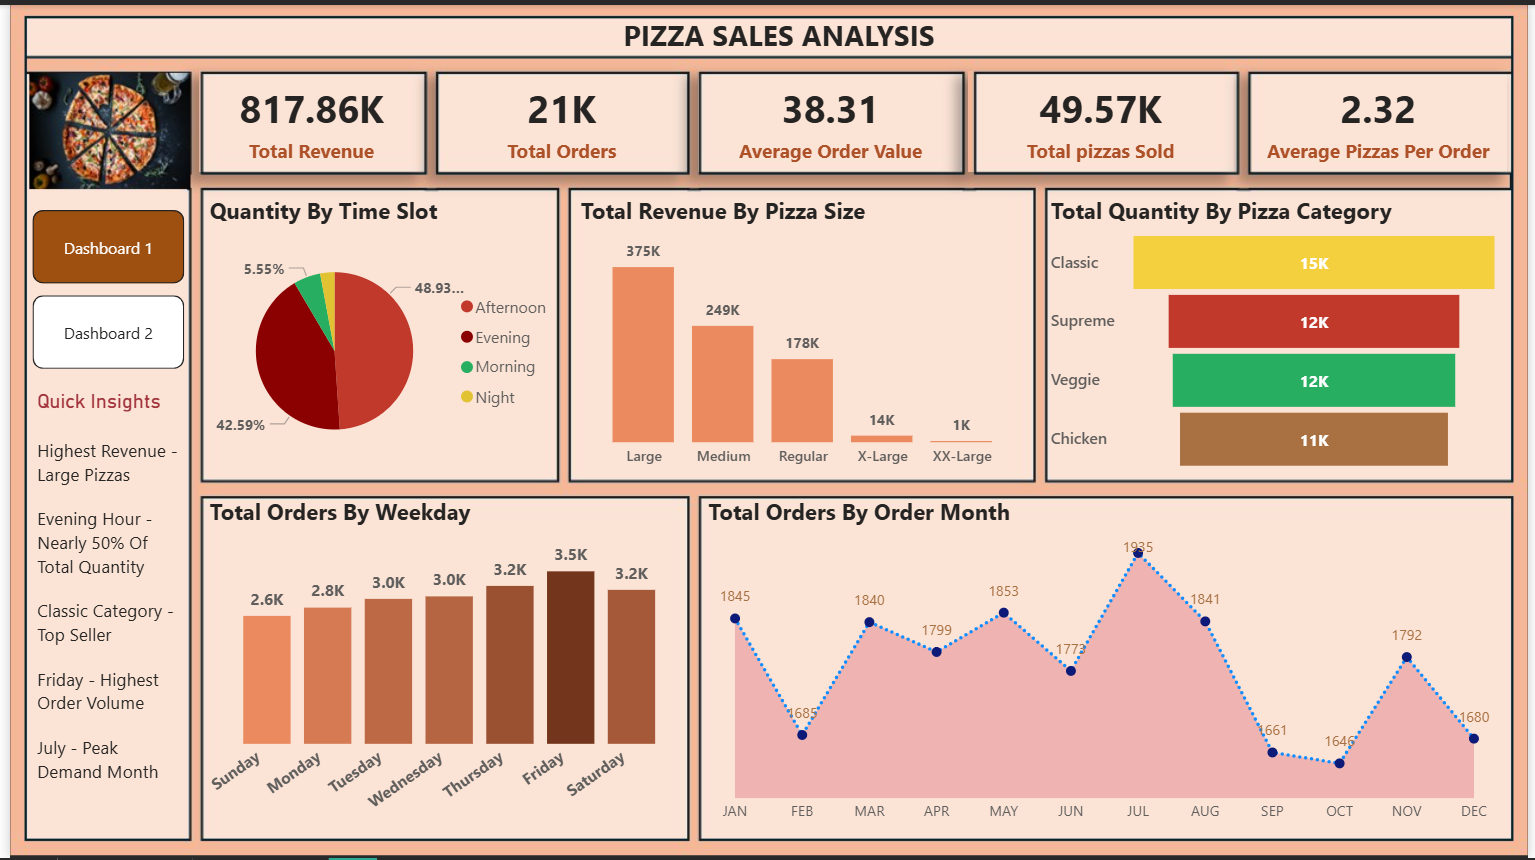

The page's visual inventory and layout, read from the dashboard file:
{"tool":"powerbi","page":{"name":"Dashboard 1","canvas":[1280,720],"ordinal":0},"visuals":[{"type":"card","fields":{"Values":["public fact_sales.Total Revenue"]},"box":[159.2,56.3,190.7,85.1],"z":0},{"type":"columnChart","title":"Total Orders By Weekday","fields":{"Y":["public fact_sales.Total Orders"],"Category":["public dim_date.weekday"]},"box":[163.3,414.4,407.5,284],"z":1000},{"type":"pieChart","title":" Quantity By Time Slot","fields":{"Category":["public dim_time.time_slot"],"Y":["Sum(public fact_sales.quantity)"]},"box":[163.2,160.4,303,238.6],"z":2000},{"type":"areaChart","title":"Total Orders By Order Month","fields":{"Y":["public fact_sales.Total Orders"],"Category":["public dim_date.Order Month"]},"box":[584.1,414.1,678.7,283.8],"z":3000},{"type":"columnChart","title":"Total Revenue By Pizza Size","fields":{"Category":["public dim_pizza.pizza_size"],"Y":["public fact_sales.Total Revenue"]},"box":[476.2,160.5,385.6,238.8],"z":4000},{"type":"funnel","title":"Total Quantity By Pizza Category","fields":{"Category":["public dim_pizza.pizza_category"],"Y":["Sum(public fact_sales.quantity)"]},"box":[873.4,160.4,389.4,238.6],"z":5000},{"type":"card","fields":{"Values":["public fact_sales.Total Orders"]},"box":[360.9,56.3,209.9,85.1],"z":6000},{"type":"card","fields":{"Values":["public fact_sales.Average Order Value"]},"box":[580.4,56.3,225,85.1],"z":7000},{"type":"card","fields":{"Values":["public fact_sales.Average Pizzas Per Order"]},"box":[1045.6,56.3,216.8,85.1],"z":8000},{"type":"card","fields":{"Values":["public fact_sales.Total pizzas Sold"]},"box":[808.2,56.3,225,85.1],"z":9000},{"type":"textbox","box":[512.5,4.2,383.8,42.2],"z":10000},{"type":"pageNavigator","box":[19.2,172.8,128.9,135.7],"z":11000},{"type":"textbox","title":"Quick Insights","box":[17.8,323.6,130.2,374.3],"z":12000}]}

Visuals, with their boxes in screenshot pixels (x1, y1, x2, y2), scaled from the page's 1280x720 canvas onto the 1535x860 screenshot:
card - public fact_sales.Total Revenue: box(191, 67, 420, 169)
"Total Orders By Weekday" columnChart: box(196, 495, 685, 834)
" Quantity By Time Slot" pieChart: box(196, 192, 559, 477)
"Total Orders By Order Month" areaChart: box(700, 495, 1514, 834)
"Total Revenue By Pizza Size" columnChart: box(571, 192, 1033, 477)
"Total Quantity By Pizza Category" funnel: box(1047, 192, 1514, 477)
card - public fact_sales.Total Orders: box(433, 67, 685, 169)
card - public fact_sales.Average Order Value: box(696, 67, 966, 169)
card - public fact_sales.Average Pizzas Per Order: box(1254, 67, 1514, 169)
card - public fact_sales.Total pizzas Sold: box(969, 67, 1239, 169)
textbox: box(615, 5, 1075, 55)
pageNavigator: box(23, 206, 178, 368)
"Quick Insights" textbox: box(21, 387, 177, 834)
